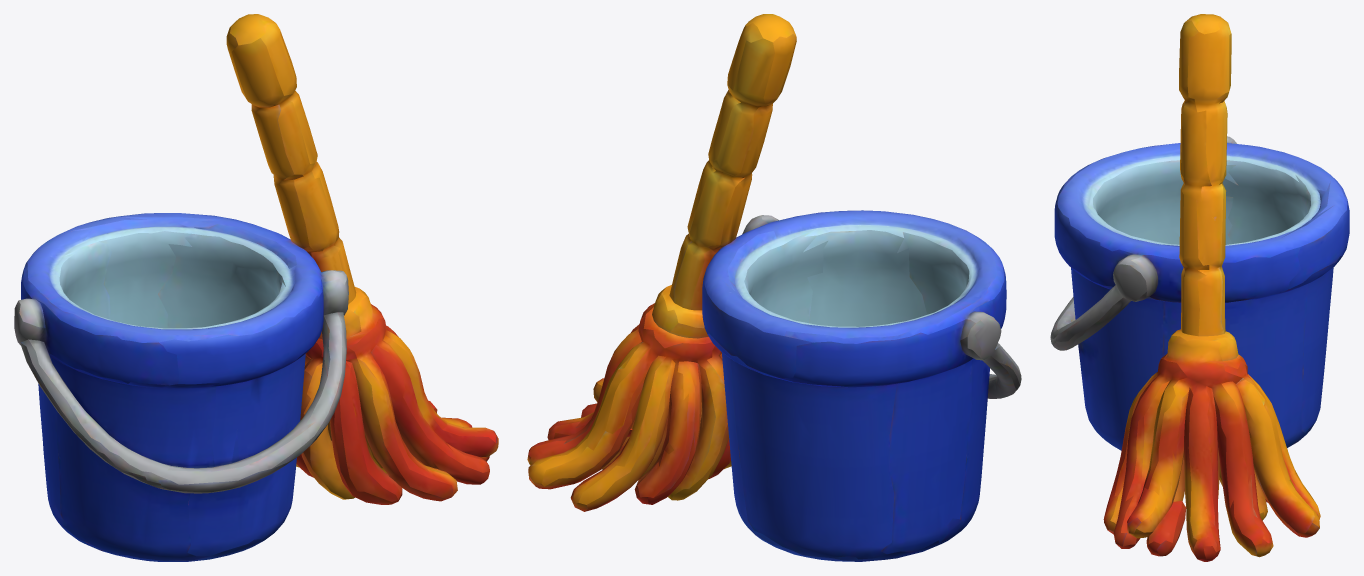
Rendered from x-broomstick2.glb.
The picture shows the model from 3 angles, left to right: view 1: azimuth 30°, elevation 25°; view 2: azimuth 150°, elevation 25°; view 3: azimuth 270°, elevation 25°; orthographic projection. The views are drawn at different scales.
Visible parts, largest first — view 1: geometry_0; view 2: geometry_0; view 3: geometry_0.
Part boxes in pixels (x1,y1,x2,y2): geometry_0: (14,14,498,561); geometry_0: (527,14,1021,561); geometry_0: (1050,14,1349,561).
Bounding box in the file's own units: 0.3423 × 0.35 × 0.2092.
1 material, 1 textured.
